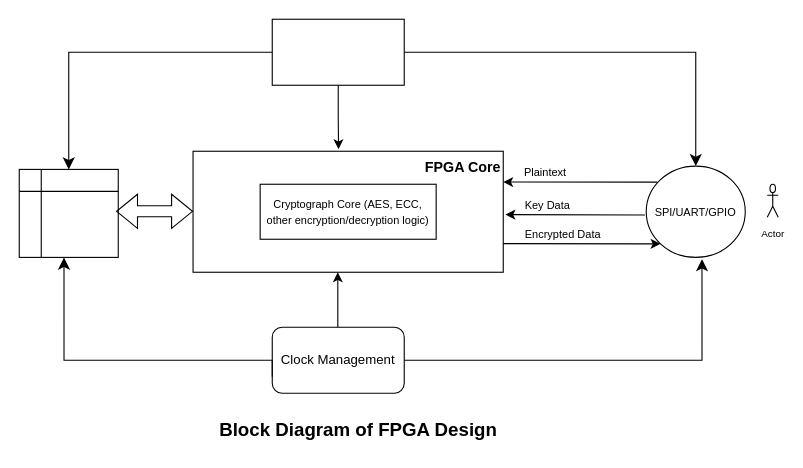
Some shapes in this 803 by 468 pixel diagram are drawn without their labels. Here are the shapes that lost their labels. From the top down, the centre of each, then its label:
the point at 337,51: Control Unit
the point at 68,212: On-chip Memory
